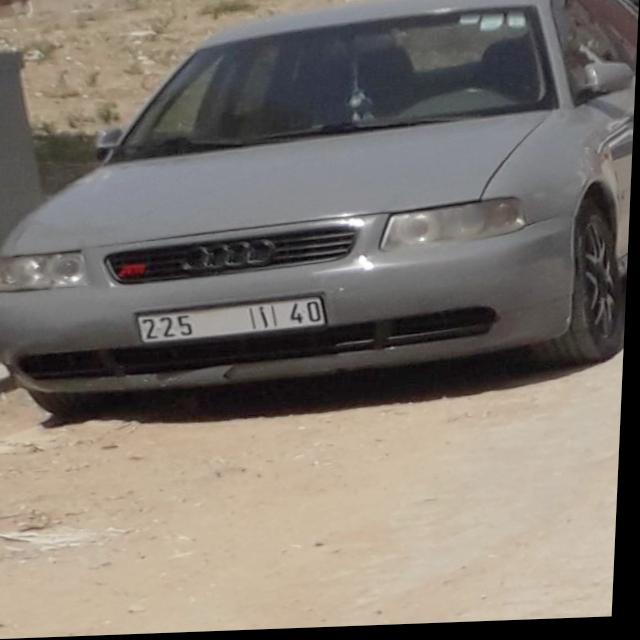License-Plate: (142, 299, 328, 343)
